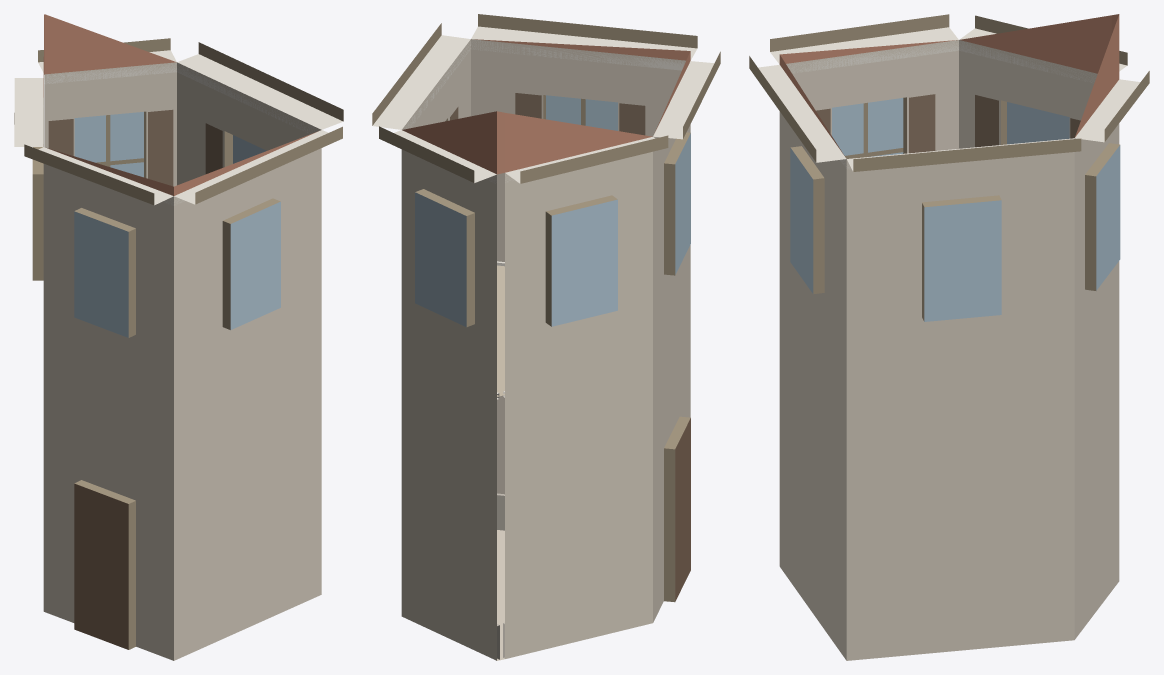
The picture shows the model from 3 angles, left to right: view 1: azimuth 30°, elevation 25°; view 2: azimuth 150°, elevation 25°; view 3: azimuth 270°, elevation 25°; orthographic projection. The views are drawn at different scales.
Parts seen in each view (by area): view 1: W-32; view 2: W-32; view 3: W-32.
Boxes of the visible parts, <box> form: W-32: <box>14,14,343,660</box>; W-32: <box>372,14,720,660</box>; W-32: <box>749,14,1149,660</box>.
Bounding box in the file's own units: 4.33 × 7.91 × 5.06.
